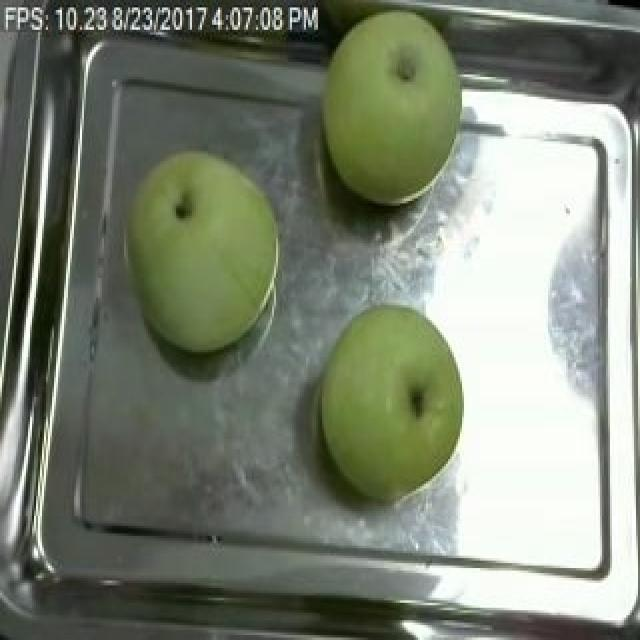Healty Apple: (125, 150, 279, 354), (319, 303, 465, 501), (319, 8, 461, 205)
